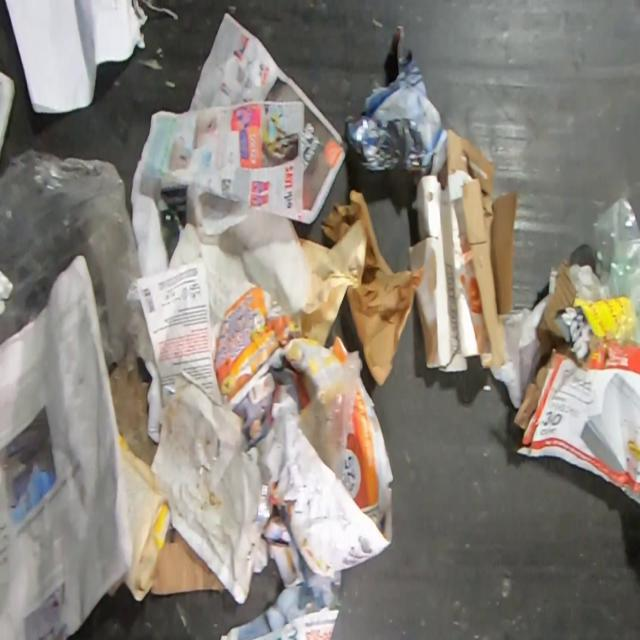cardboard: (407, 128, 520, 372), (512, 337, 640, 509), (536, 257, 628, 366), (150, 524, 232, 596), (0, 67, 16, 167)
soft_plastic: (0, 146, 158, 372), (298, 349, 361, 484), (586, 193, 639, 349)
